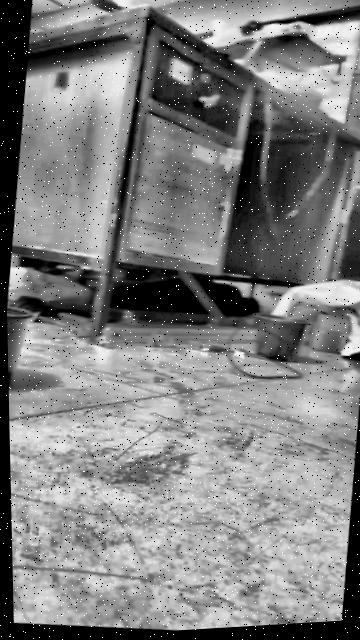pot: (7, 304, 42, 390)
